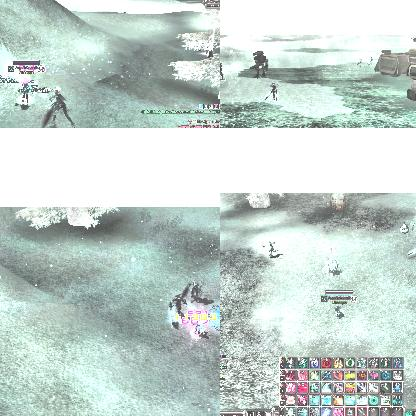caliana: (49, 89, 75, 128), (182, 282, 202, 300), (168, 295, 180, 325), (264, 83, 278, 101), (263, 241, 277, 257), (326, 259, 338, 275), (408, 243, 416, 261), (366, 57, 372, 66), (356, 58, 362, 66)
